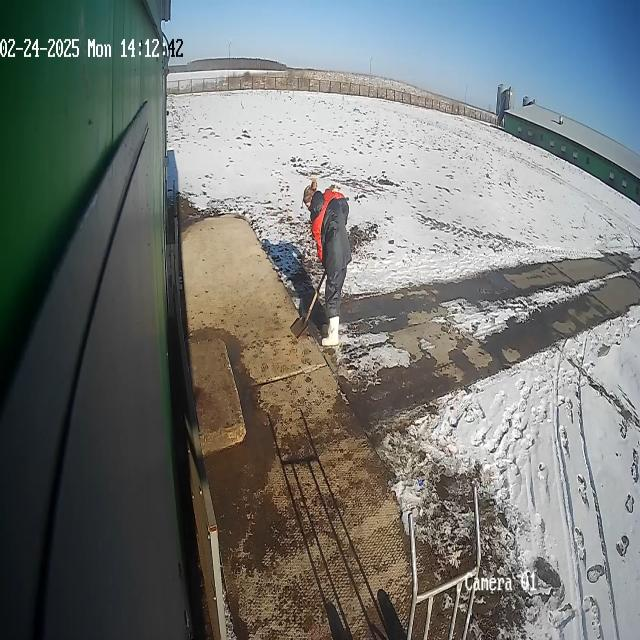Red uniform: (303, 180, 351, 346)
